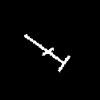double_crochet: (24, 34, 69, 71)
